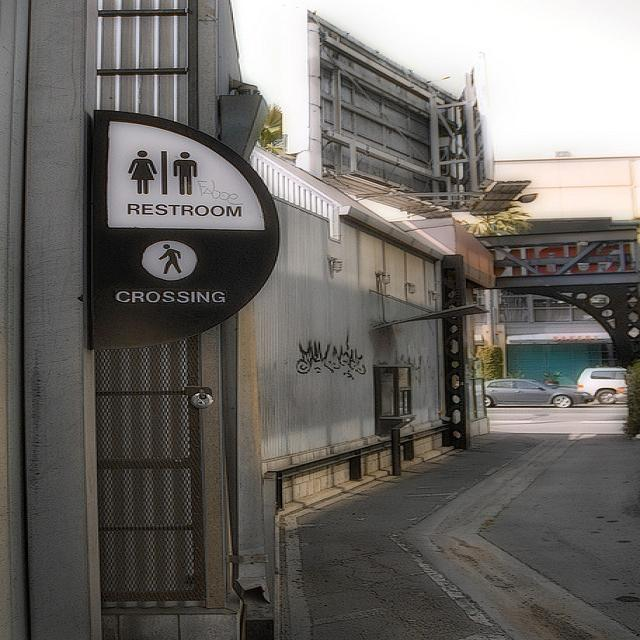Vehicle: (484, 378, 592, 408), (576, 367, 627, 405)
